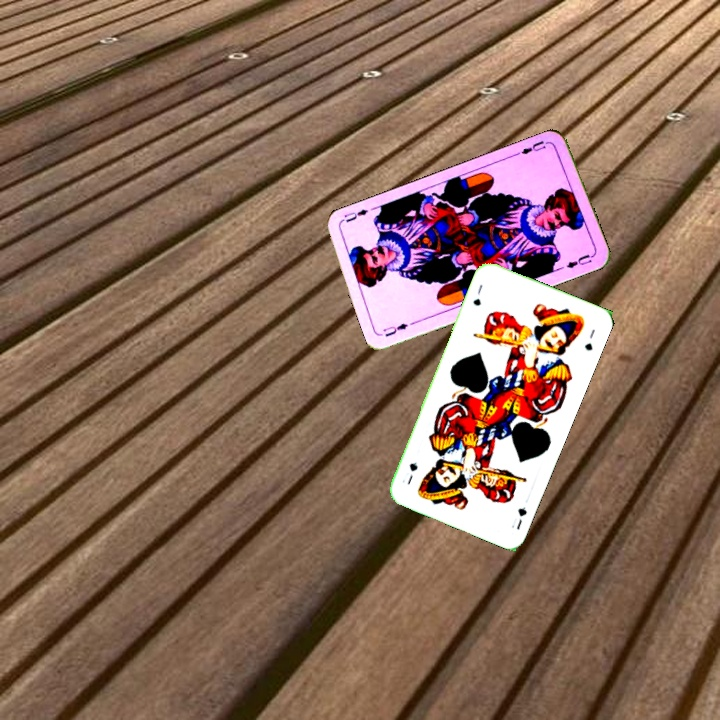EU: (513, 136, 552, 157), (379, 319, 411, 339)
GU: (507, 503, 530, 532), (469, 280, 485, 308)
